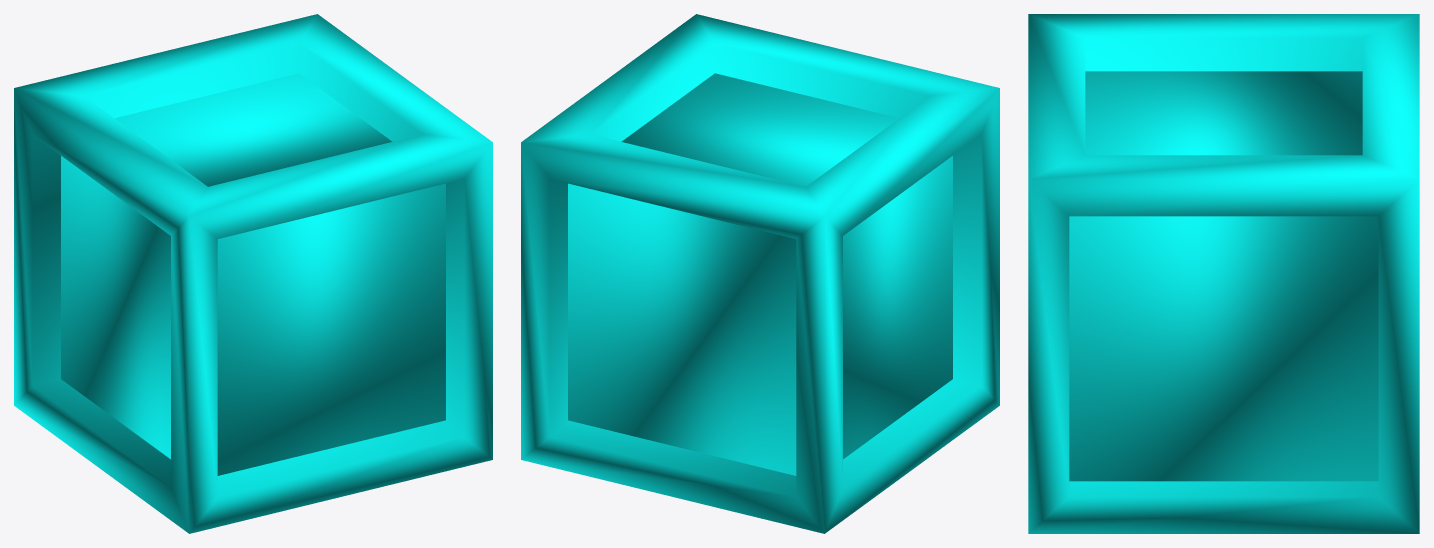
File: status_moderator_f2e95377.glb
3 renders of one model, left to right at view 1: azimuth 30°, elevation 25°; view 2: azimuth 150°, elevation 25°; view 3: azimuth 270°, elevation 25°, orthographic. The views are drawn at different scales.
Parts seen in each view (by area): view 1: Cube; view 2: Cube; view 3: Cube.
Part boxes in pixels (left/top/right/bottom): Cube: left=14, top=14, right=492, bottom=533; Cube: left=521, top=14, right=999, bottom=533; Cube: left=1028, top=14, right=1419, bottom=533.
Size of the model in its own units: 2.1 by 2.1 by 2.1.
